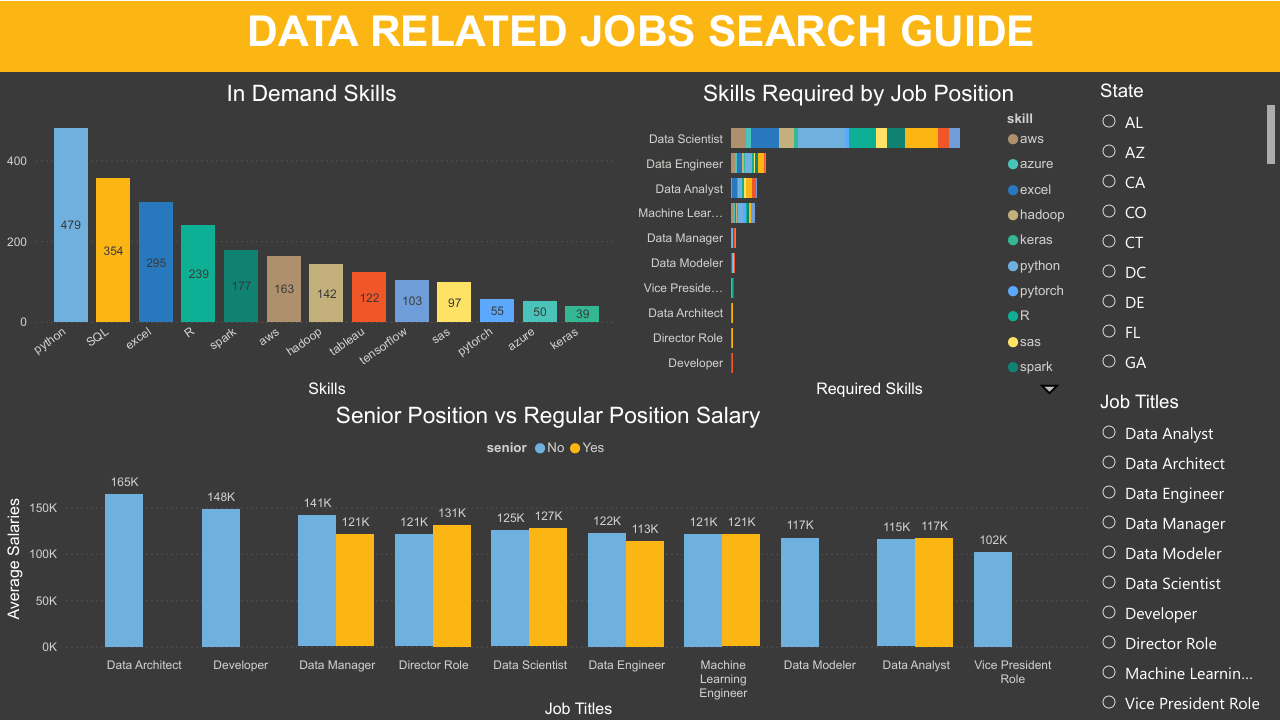

This screenshot's page, from the dashboard's own definition file:
{"tool":"powerbi","page":{"name":"Page 3","canvas":[1280,720],"ordinal":2},"visuals":[{"type":"textbox","box":[0,0,1279.8,70.7],"z":0},{"type":"columnChart","title":"In Demand Skills","fields":{"Category":["ds_jobs_cleaned (2).skill"],"Y":["Sum(ds_jobs_cleaned (2).required)"],"Series":["ds_jobs_cleaned (2).skill"]},"box":[0,77.8,620.5,321.9],"z":1000},{"type":"barChart","title":"Skills Required by Job Position","fields":{"Category":["ds_jobs_cleaned (2).cleaned_job_title"],"Y":["Sum(ds_jobs_cleaned (2).required)"],"Series":["ds_jobs_cleaned (2).skill"]},"box":[620.5,77.8,473.7,321.9],"z":2000},{"type":"clusteredColumnChart","title":"Senior Position vs Regular Position Salary","fields":{"Y":["Avg(ds_jobs_cleaned (2).average_salary)"],"Series":["ds_jobs_cleaned (2).senior"],"Category":["ds_jobs_cleaned (2).cleaned_job_title"]},"box":[0,399.8,1094.2,320],"z":3000},{"type":"listSlicer","title":"Job Titles","fields":{"Values":["ds_jobs_cleaned.cleaned_job_title"]},"box":[1094,389,186,331],"z":4000},{"type":"listSlicer","title":"State","fields":{"Values":["ds_jobs_cleaned.location_state"]},"box":[1094,78,186,299],"z":5000}]}

Visuals, with their boxes in screenshot pixels (x1, y1, x2, y2), scaled from the page's 1280x720 canvas onto the 1280x720 screenshot:
textbox: crop(0, 0, 1279, 71)
"In Demand Skills" columnChart: crop(0, 78, 620, 400)
"Skills Required by Job Position" barChart: crop(620, 78, 1094, 400)
"Senior Position vs Regular Position Salary" clusteredColumnChart: crop(0, 400, 1094, 719)
"Job Titles" listSlicer: crop(1094, 389, 1279, 719)
"State" listSlicer: crop(1094, 78, 1279, 377)
